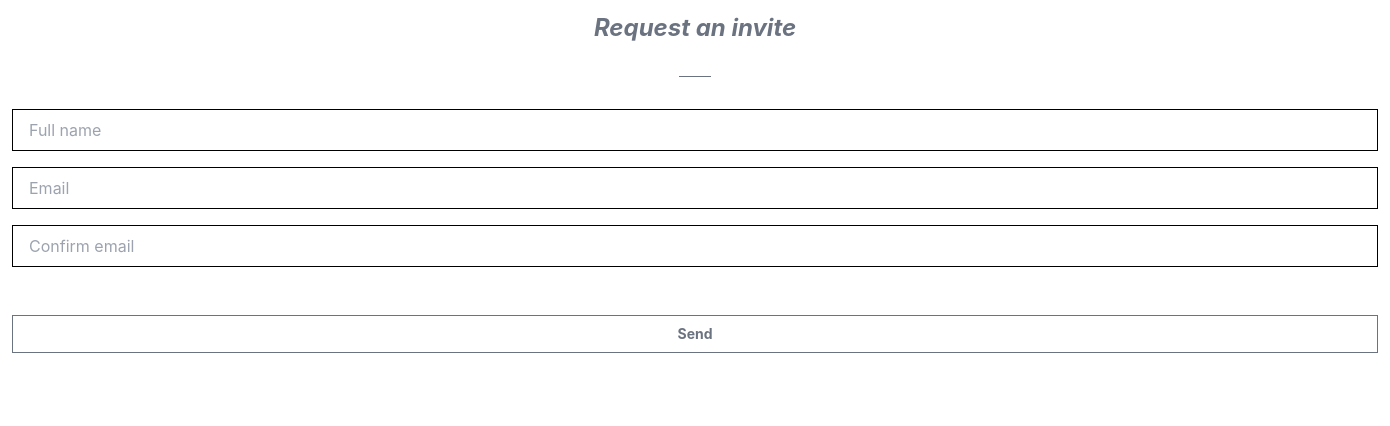
Test: <RequestStage /> › should handle server error
Type "test" into the field with placeholder "Full name".
click(695, 130); type("test")  # box x1=12 y1=109 x2=1378 y2=151
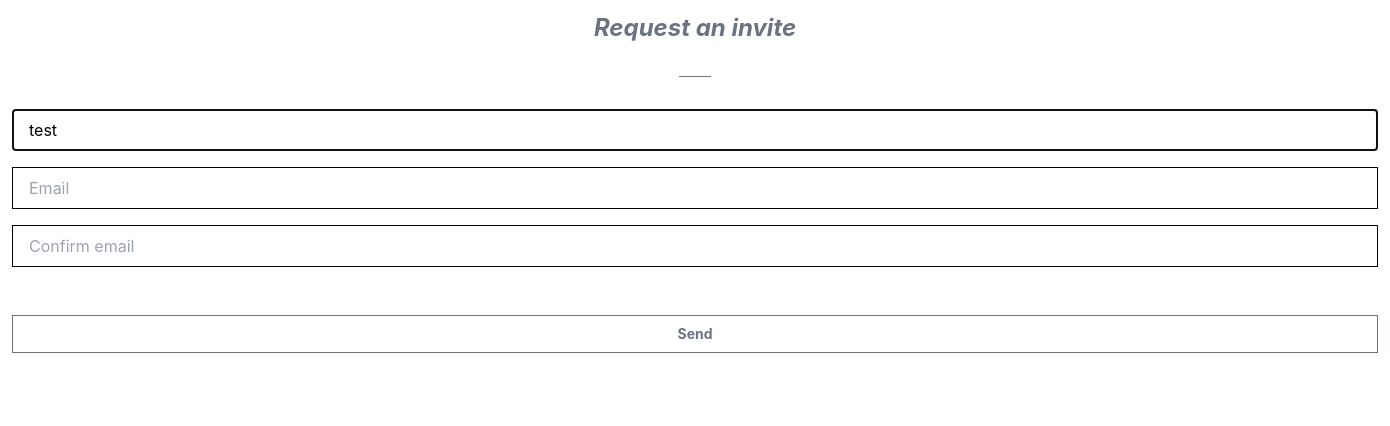
Type "usedemail@airwallex.com" into the field with placeholder "Email".
click(695, 188); type("usedemail@airwallex.com")  # box x1=12 y1=167 x2=1378 y2=209
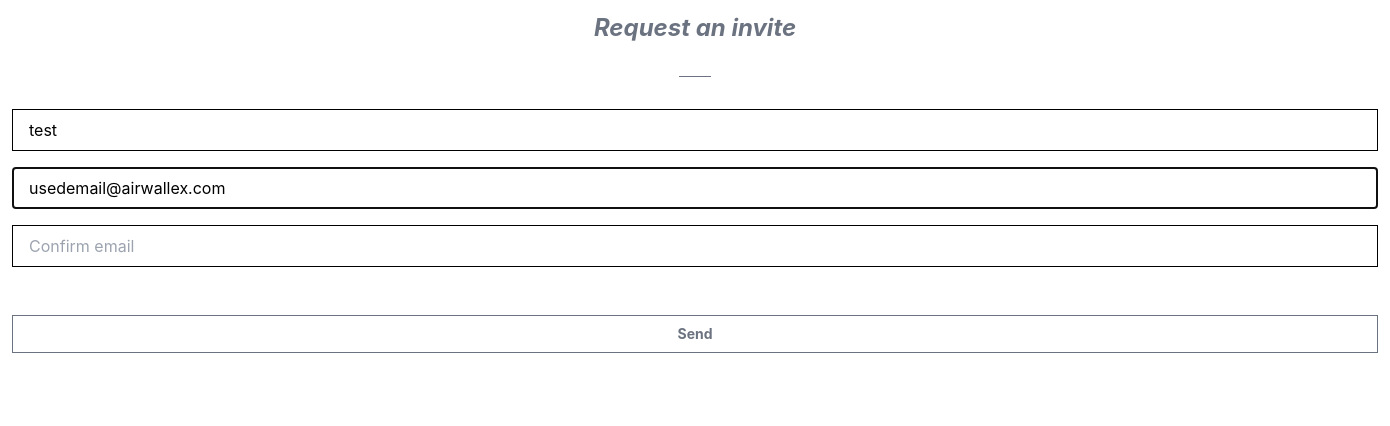
Type "usedemail@airwallex.com" into the field with placeholder "Confirm email".
click(695, 246); type("usedemail@airwallex.com")  # box x1=12 y1=225 x2=1378 y2=267
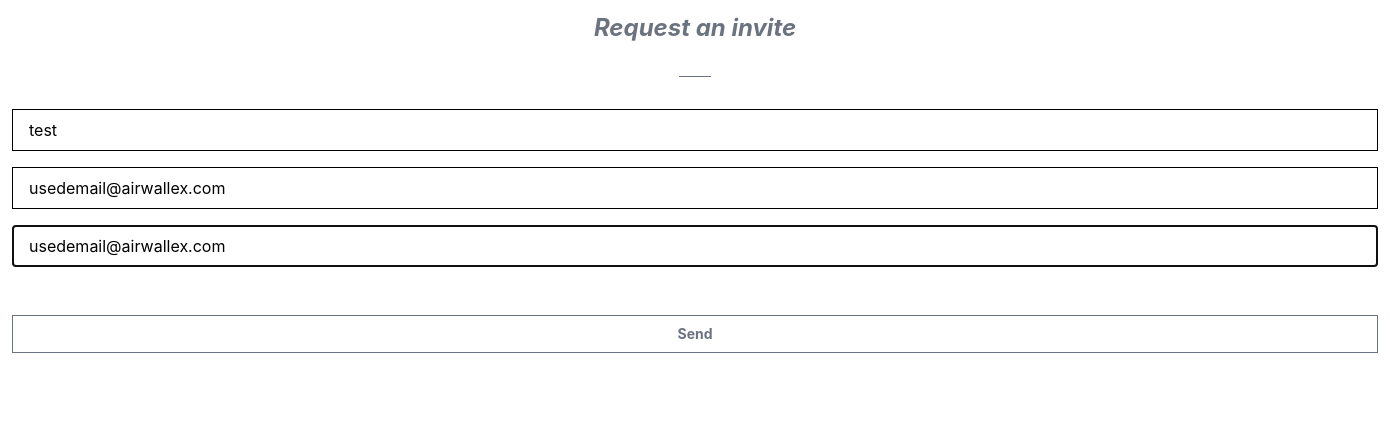
Click the button.
click(695, 334)  # box x1=12 y1=315 x2=1378 y2=353
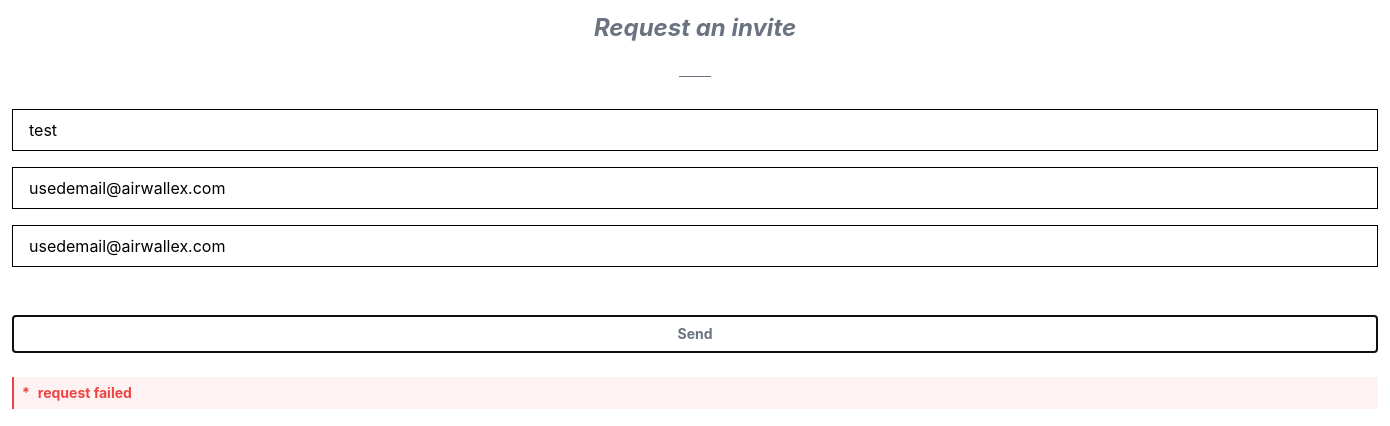
Result: the text "request failed" is shown at x1=38 y1=383 x2=132 y2=403
